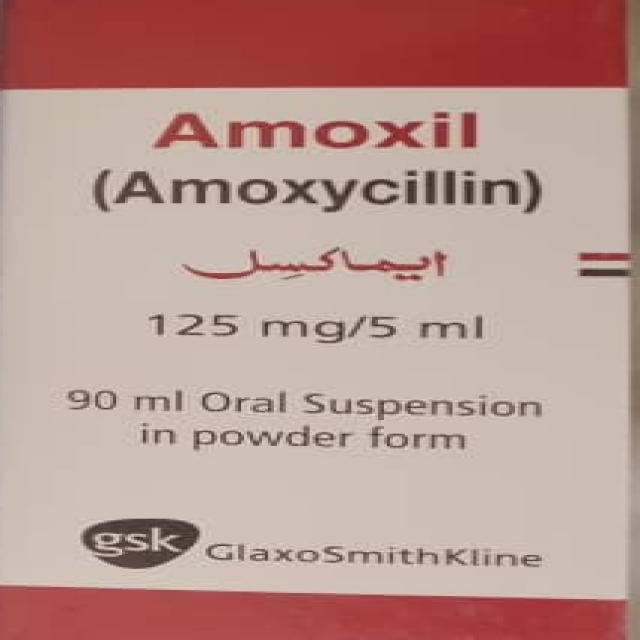drug-name: (150, 104, 480, 150)
